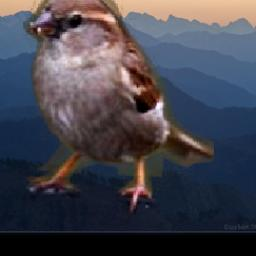Sparrow: (24, 0, 215, 216)
